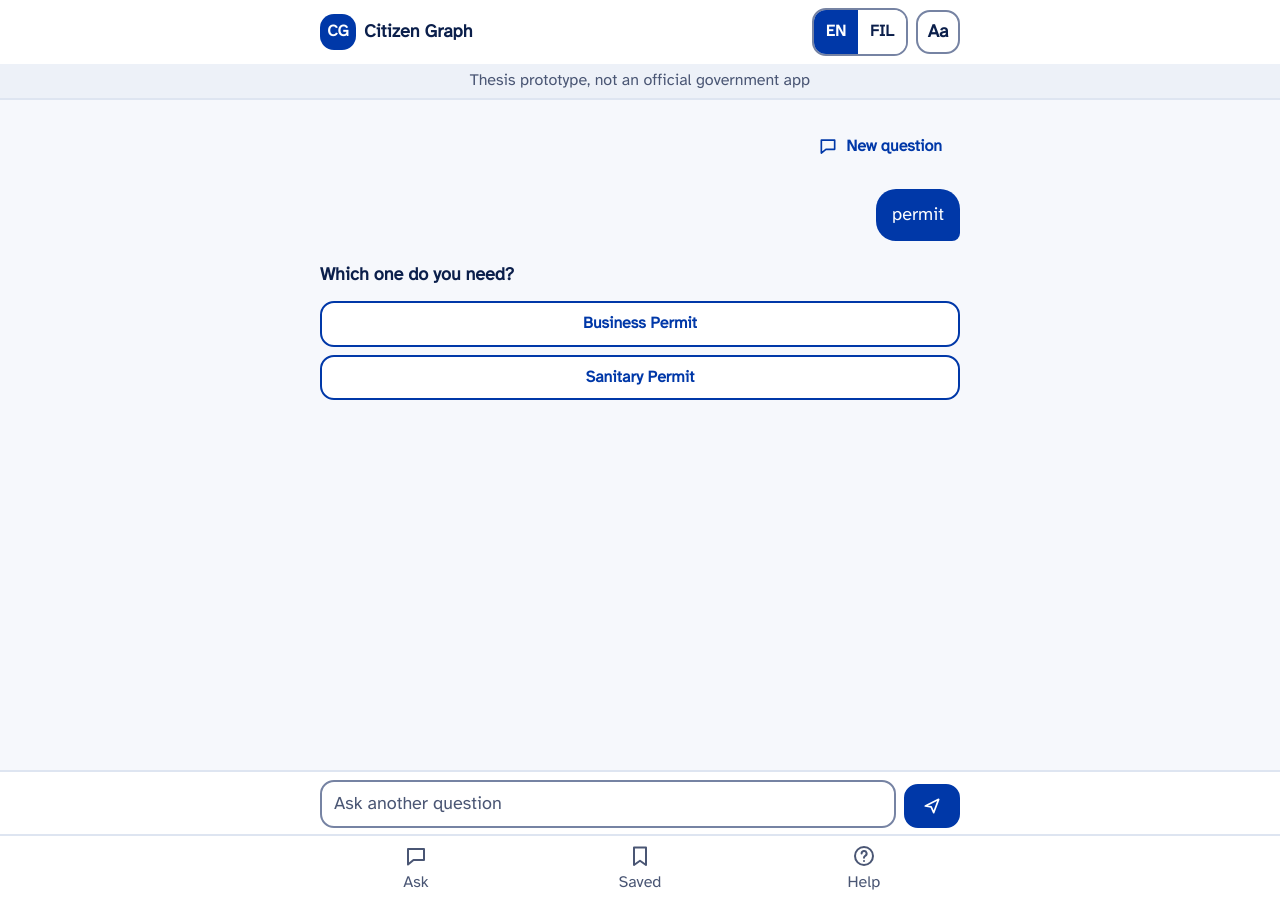
clarify and fallback flows › clarify: tapping an option sends it and shows the answer
Click the button "Sanitary Permit" at (640, 377), box [320,355,960,400]
(page scrolled)
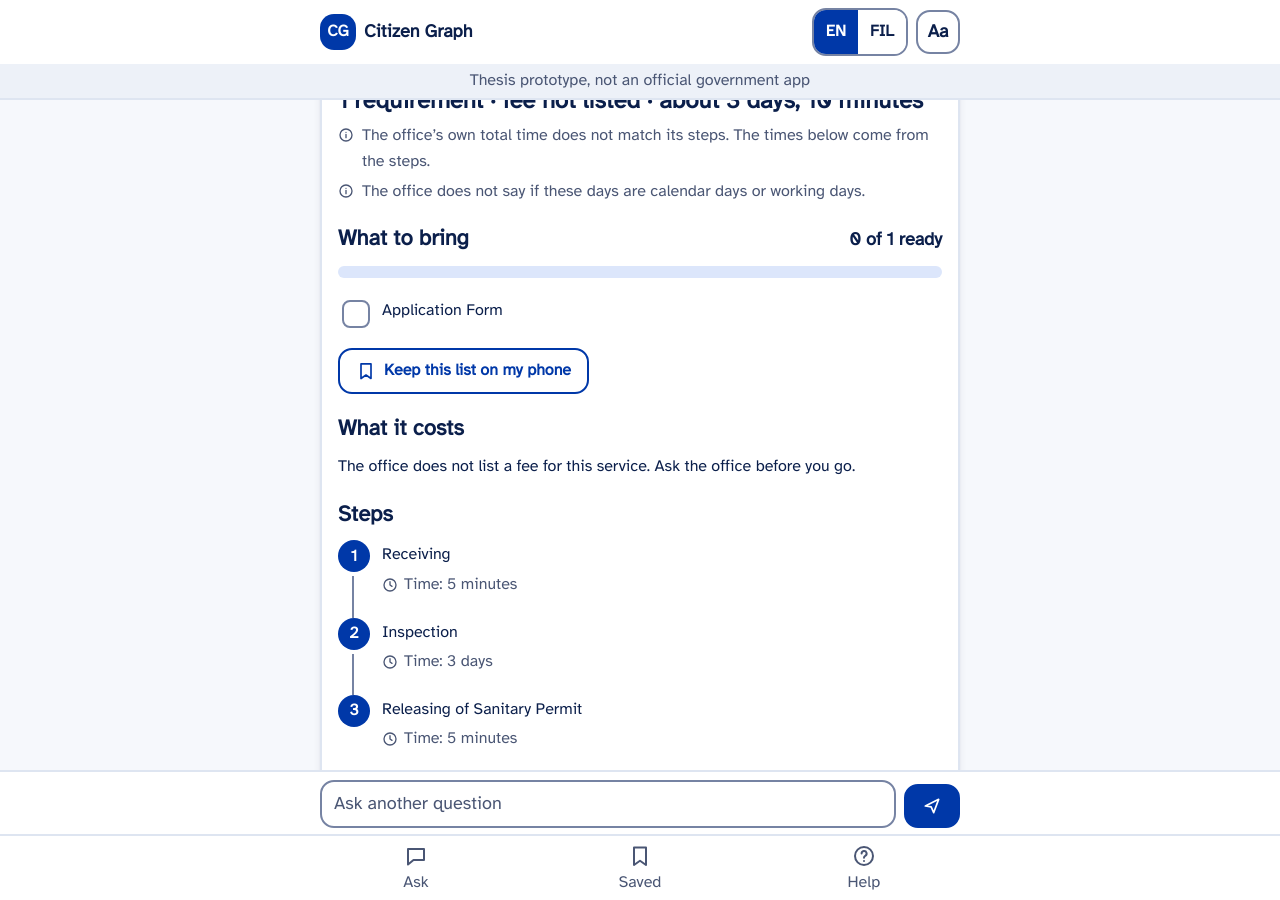
Check: the element "Which one do you need?" is not shown
Check: the element "Sanitary Permit" is shown, box [320,26,960,875]
